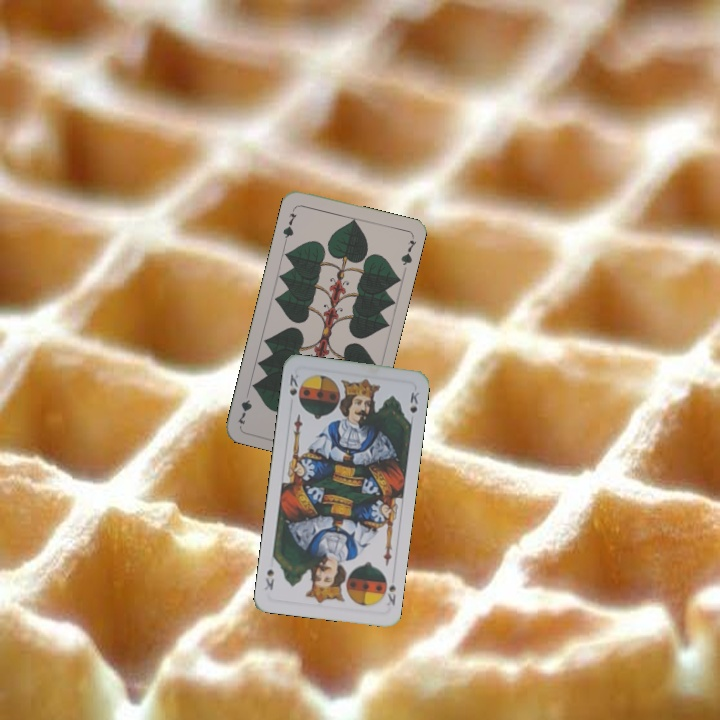G7: (279, 209, 300, 244)
SK: (378, 571, 399, 608), (285, 370, 301, 398)
